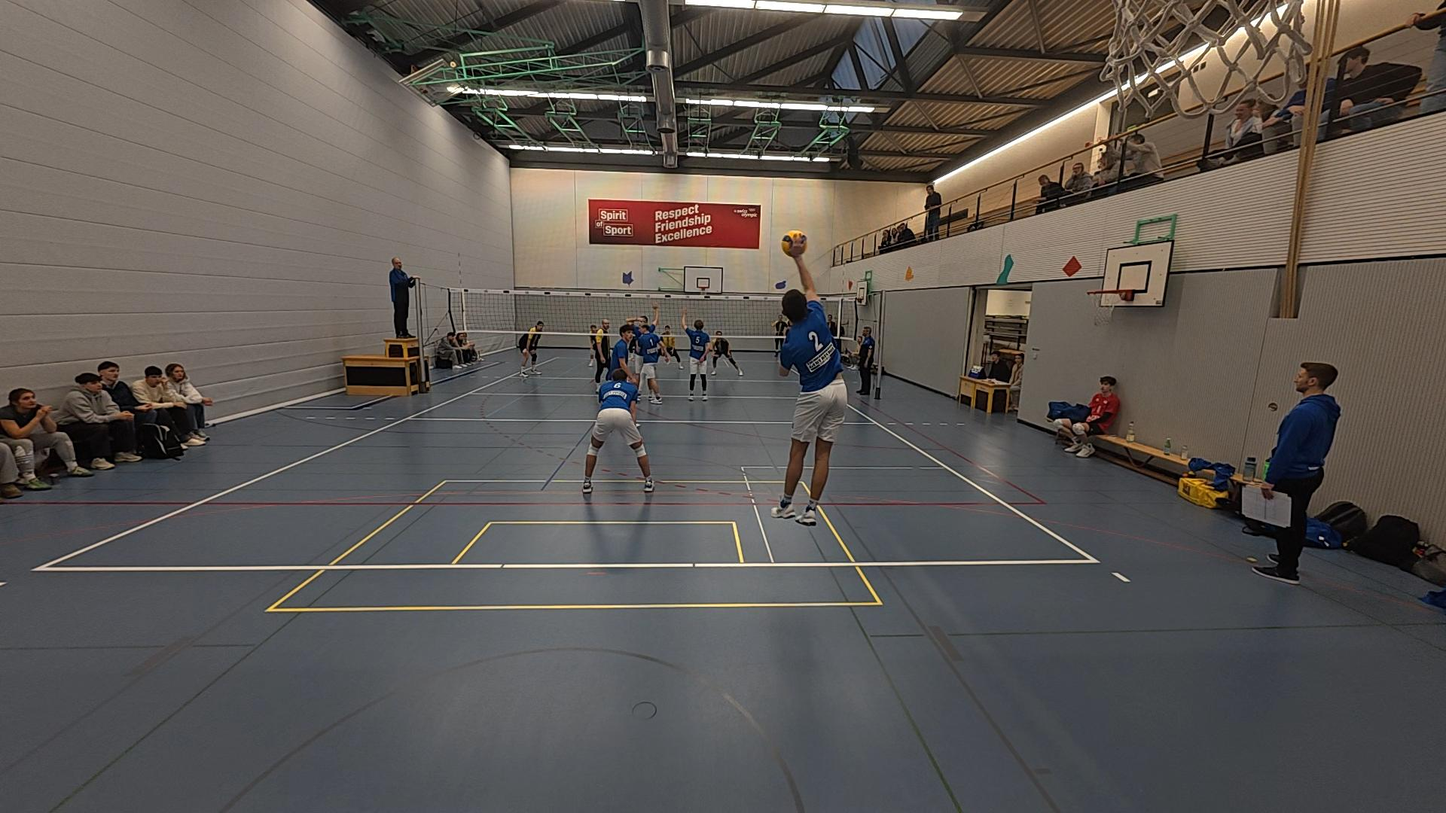Player: (581, 349, 655, 494), (622, 299, 660, 402), (678, 307, 710, 404), (608, 325, 644, 400), (700, 318, 743, 377), (637, 324, 665, 405), (592, 316, 611, 400), (517, 318, 544, 377), (656, 324, 686, 370), (583, 323, 599, 367)
Serve: (767, 244, 849, 525)
ball: (781, 232, 809, 253)
